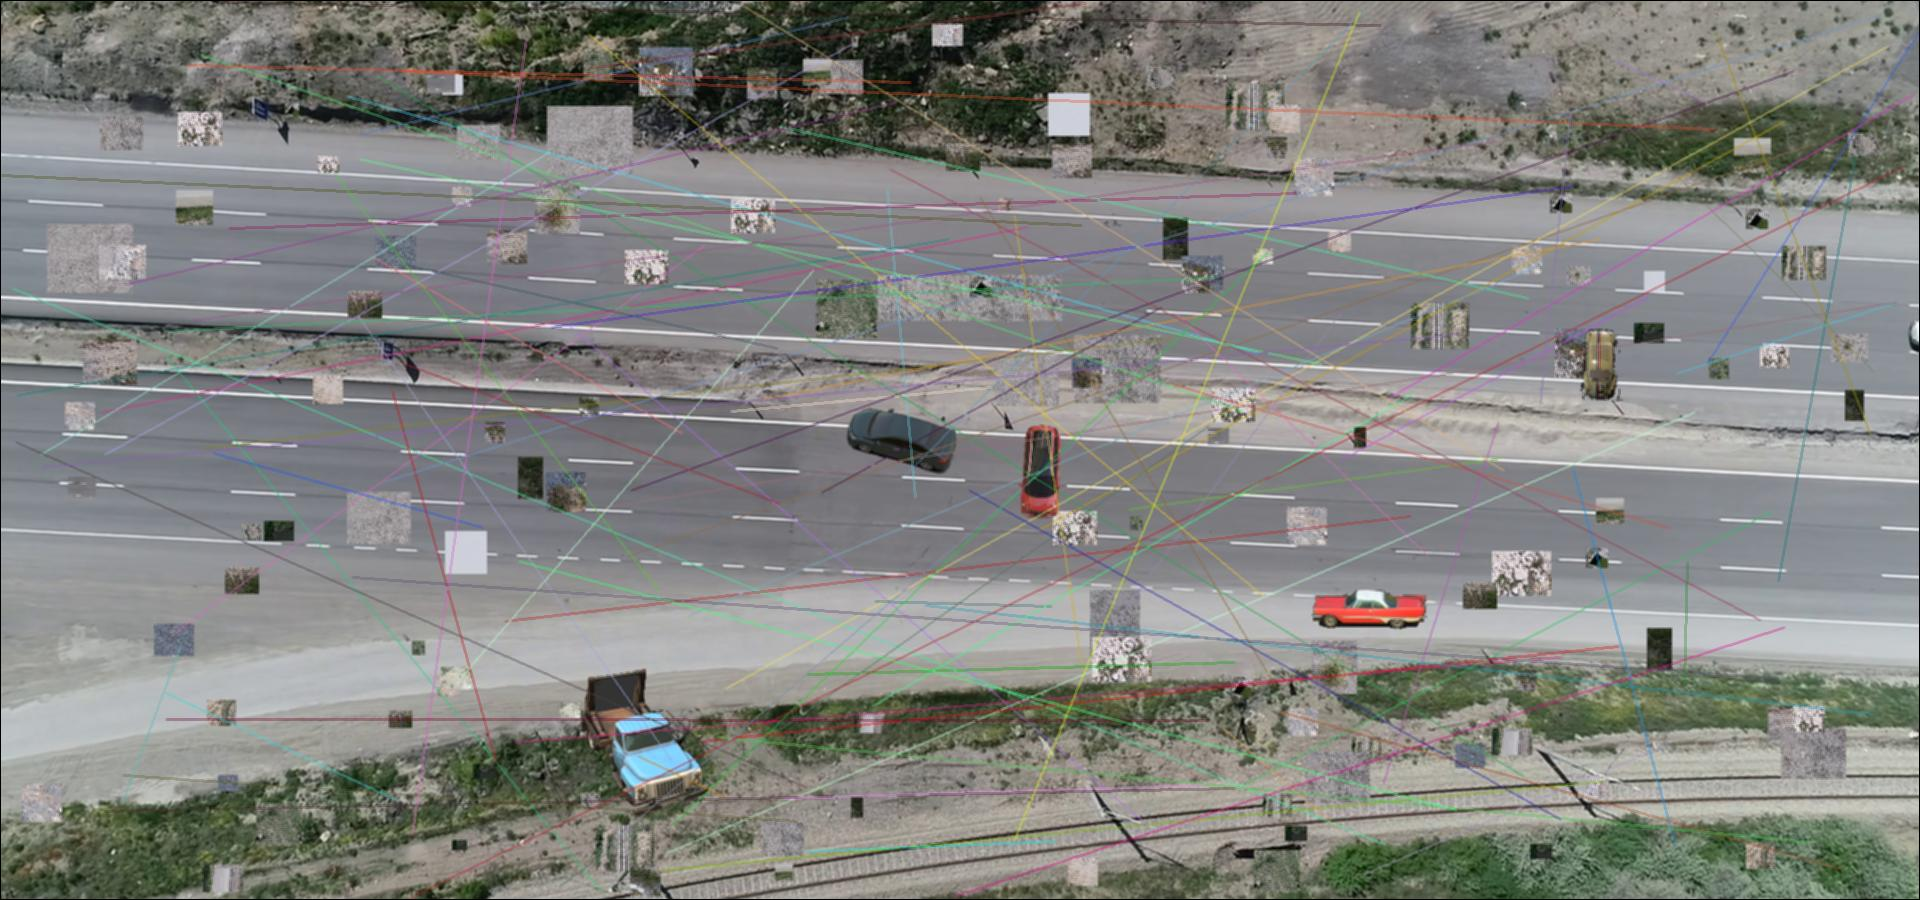arac: (580, 666, 711, 817), (846, 407, 961, 474), (1311, 590, 1430, 629), (1016, 424, 1063, 520), (1580, 329, 1620, 400)
